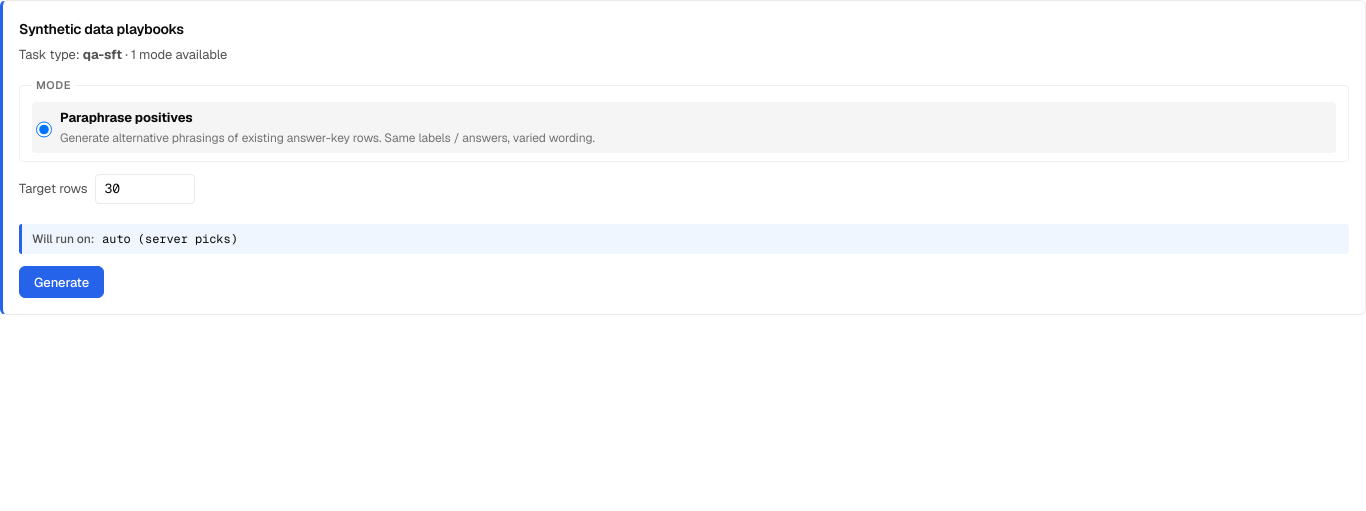
Test: PlaybookPickerPanel › surfaces a no-backend message when the run hits a 503
The width and height of the screenshot is (1366, 511).
Click the button with test id "playbook-picker-run".
click(62, 282)  # box [19, 266, 104, 298]
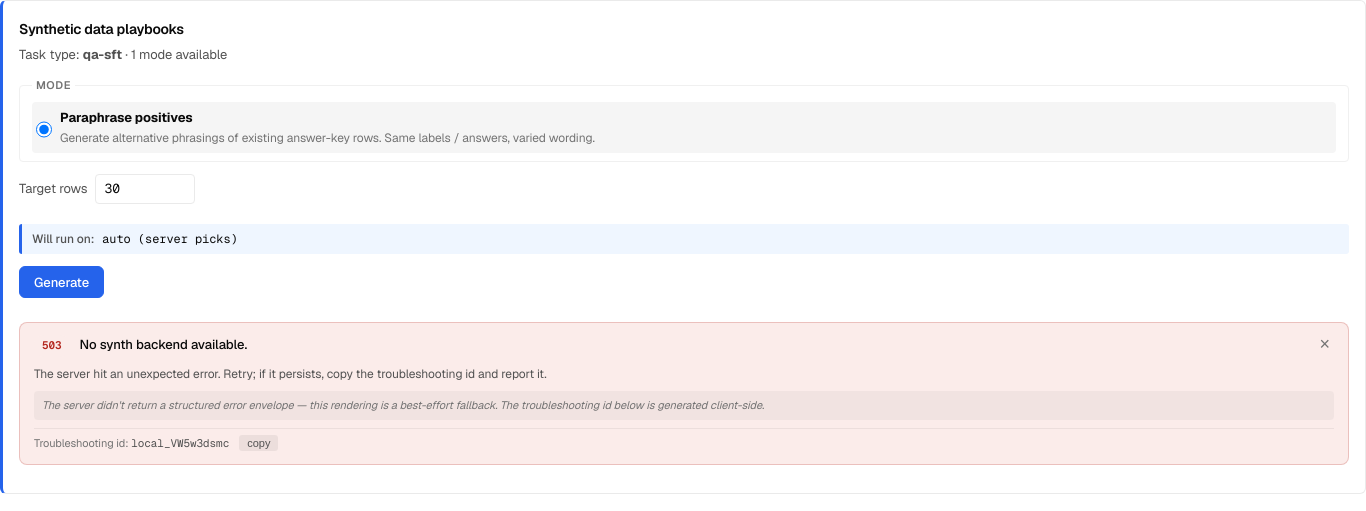
Expected: the message with test id "playbook-picker-run-error" is shown, [19, 322, 1349, 465]
Expected: the message with test id "playbook-picker-run-error" shows "No synth backend", [80, 336, 247, 353]
